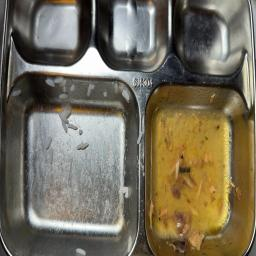empty: (9, 83, 132, 251), (145, 86, 241, 247), (175, 4, 240, 73), (98, 4, 162, 66), (20, 0, 83, 60)
